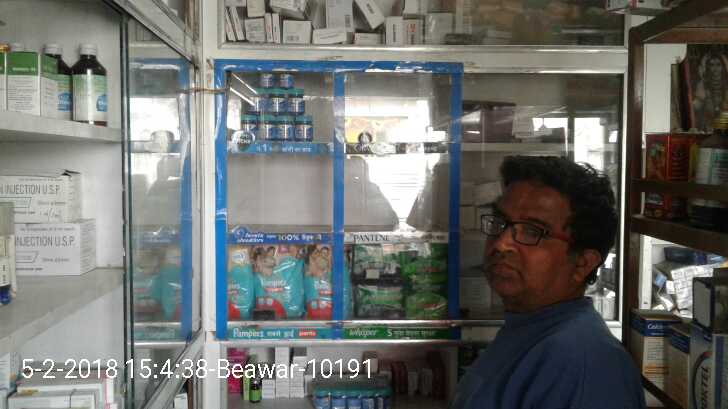vicks: (240, 70, 314, 146)
